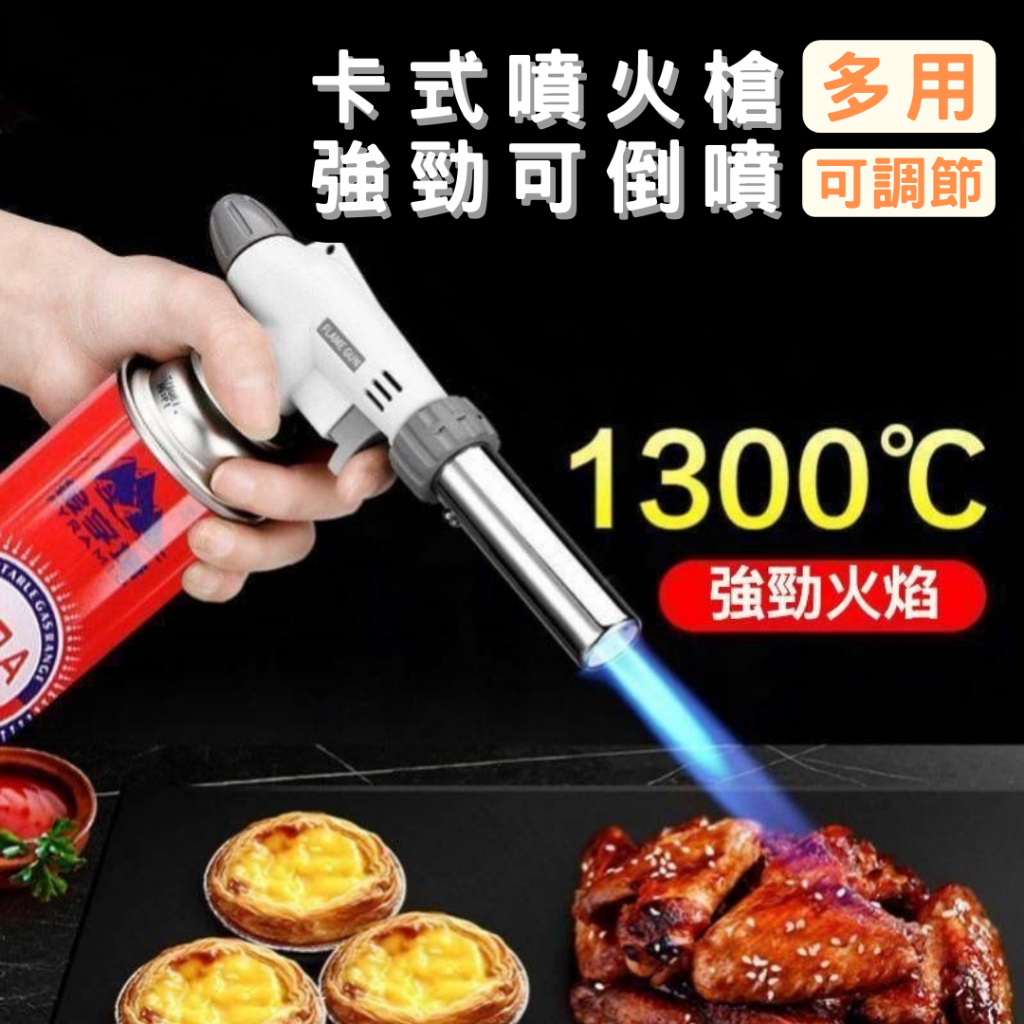gastorch: (1, 179, 638, 737)
